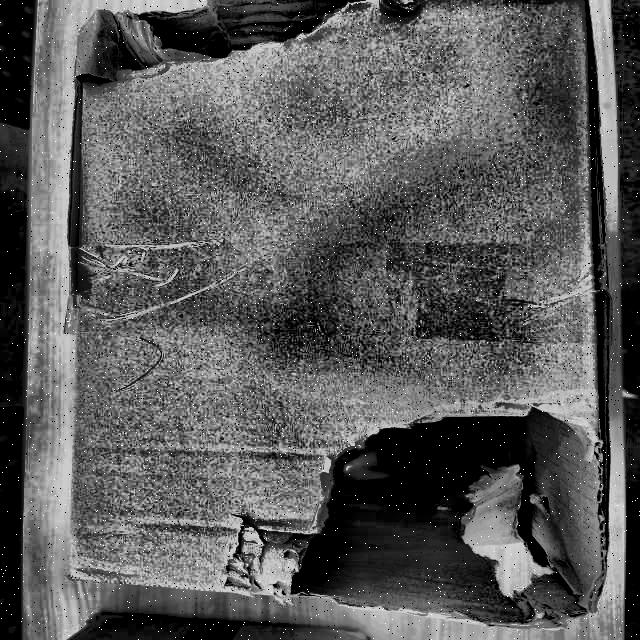box: (52, 0, 611, 622)
hole: (224, 394, 604, 624), (76, 0, 406, 87)
